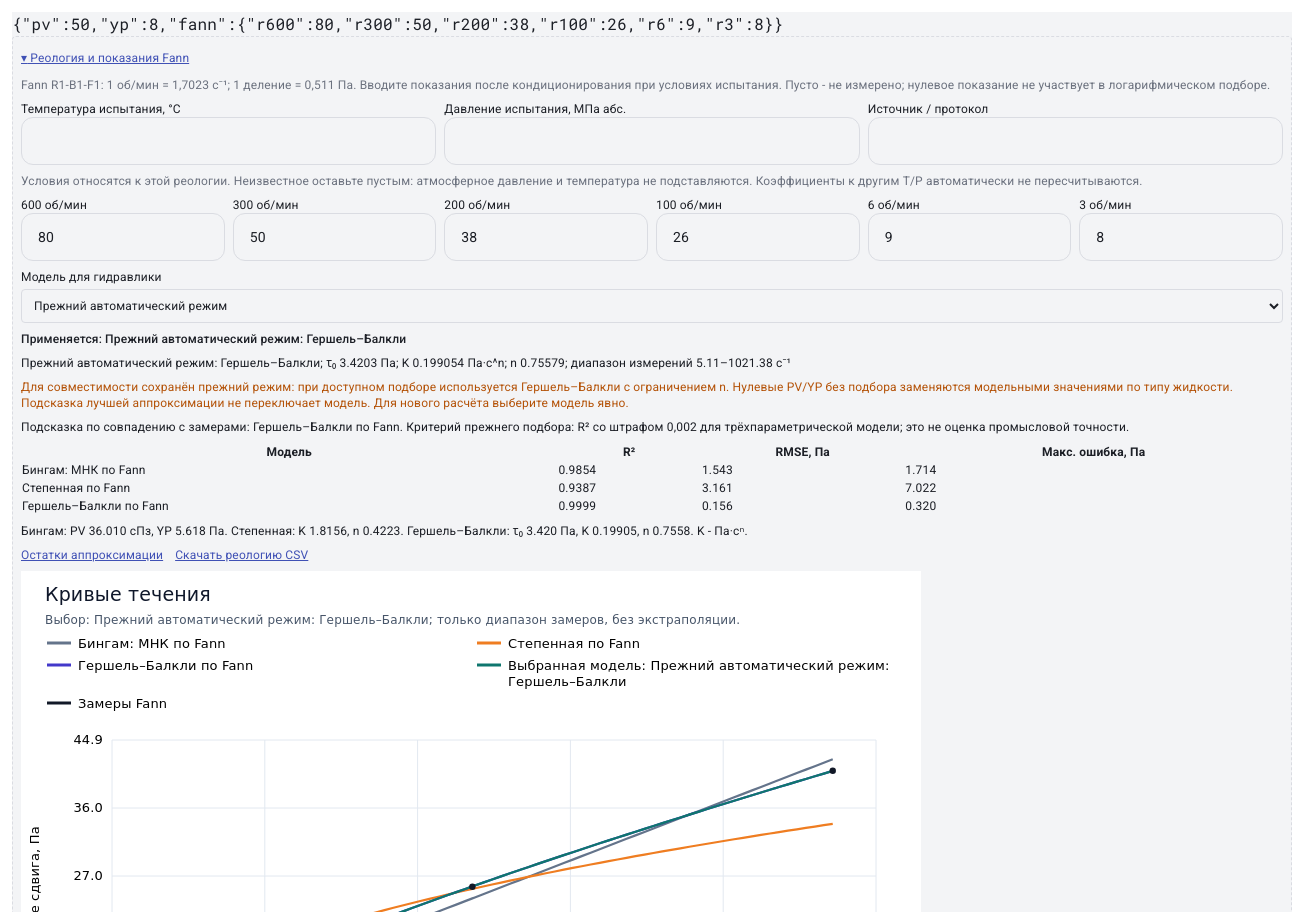
Scenario: records and clears conditions without assuming atmospheric pressure
Expected: the number field named "Давление испытания реологии, МПа абс." is not empty, [444, 117, 860, 165]
Type "0" into the number field named "Температура испытания реологии, °C" at (229, 141), box [21, 117, 436, 165]
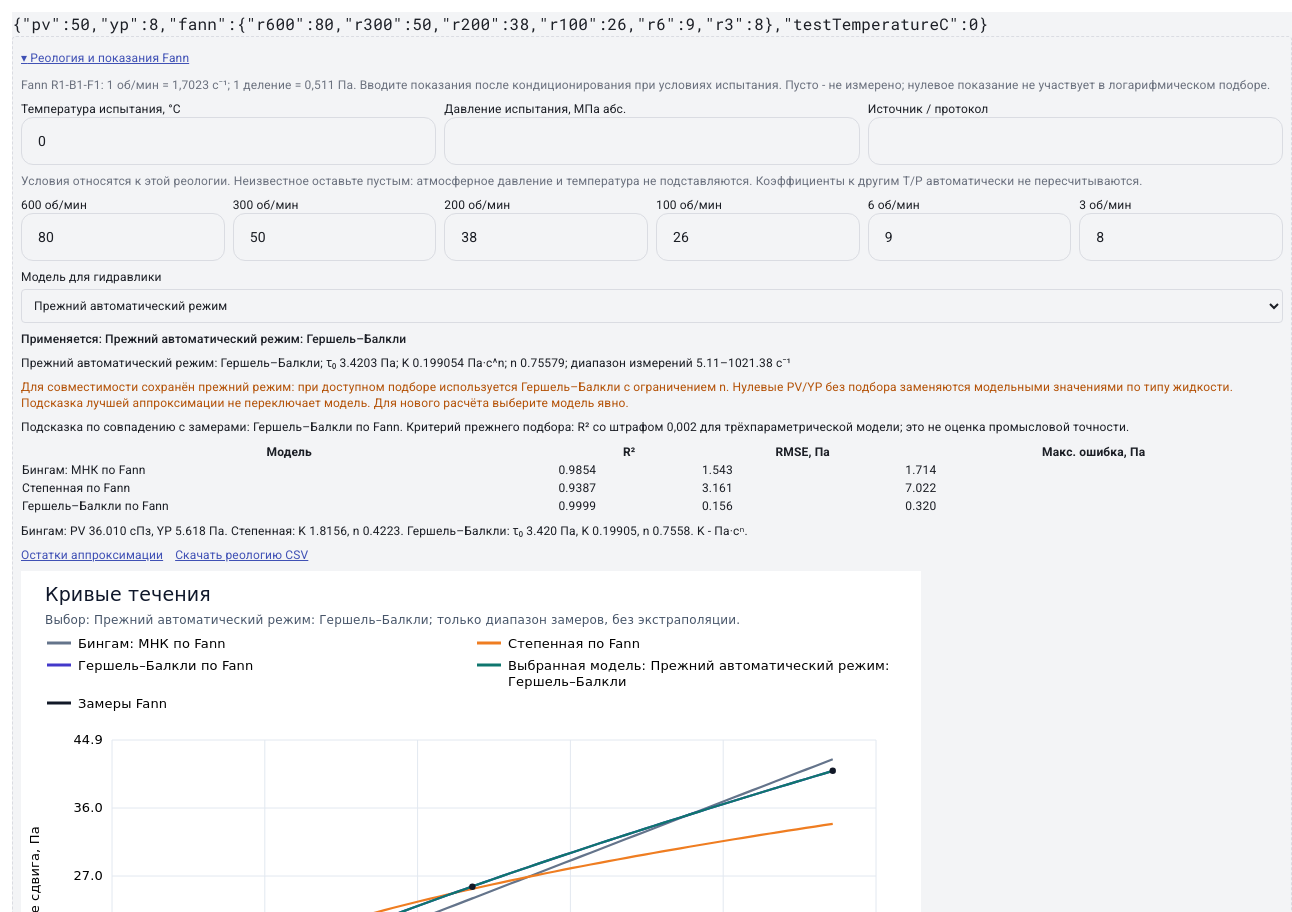
Type "0" into the number field named "Давление испытания реологии, МПа абс." at (652, 141), box [444, 117, 860, 165]
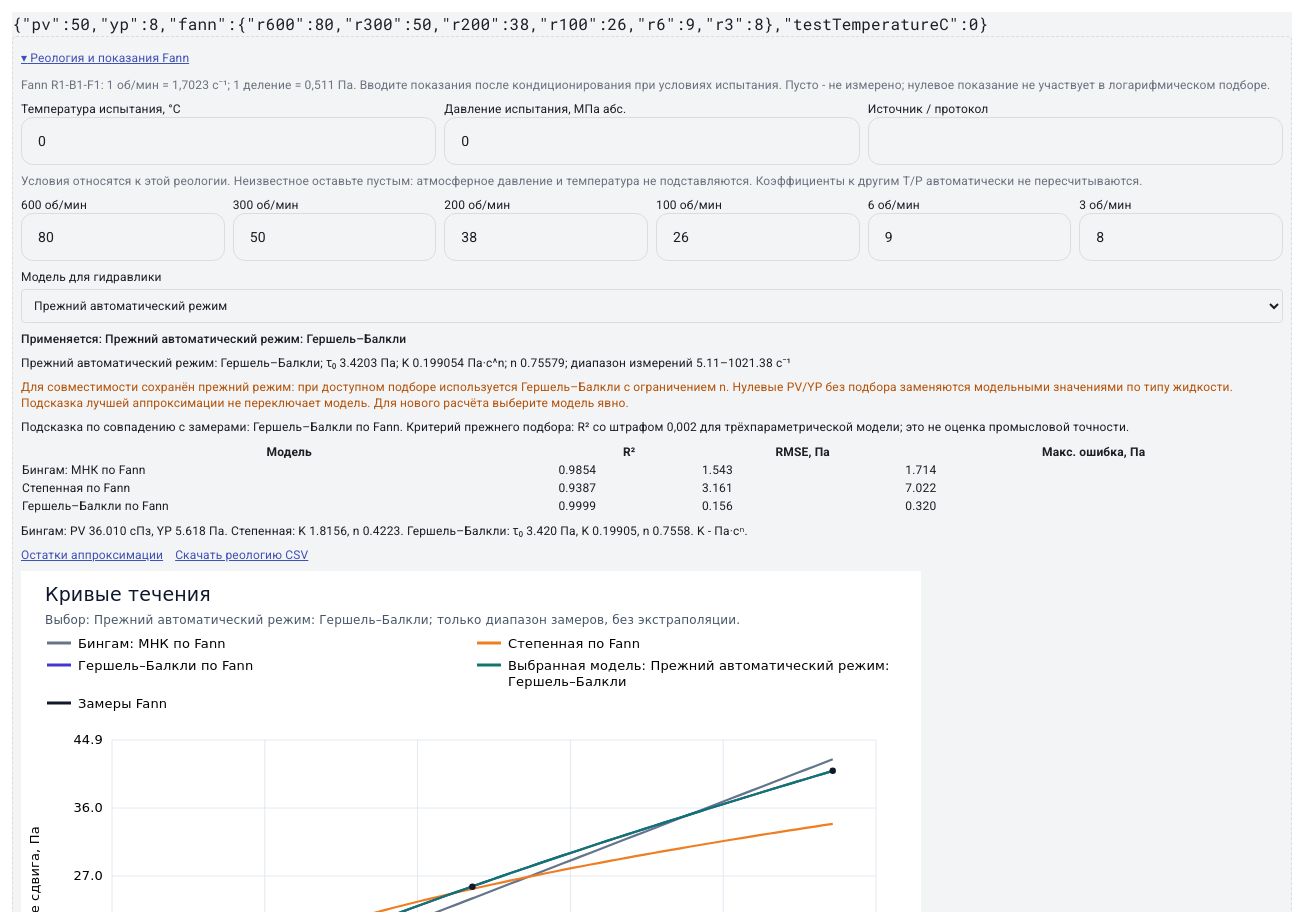
Leave the number field named "Давление испытания реологии, МПа абс.", box [444, 117, 860, 165]
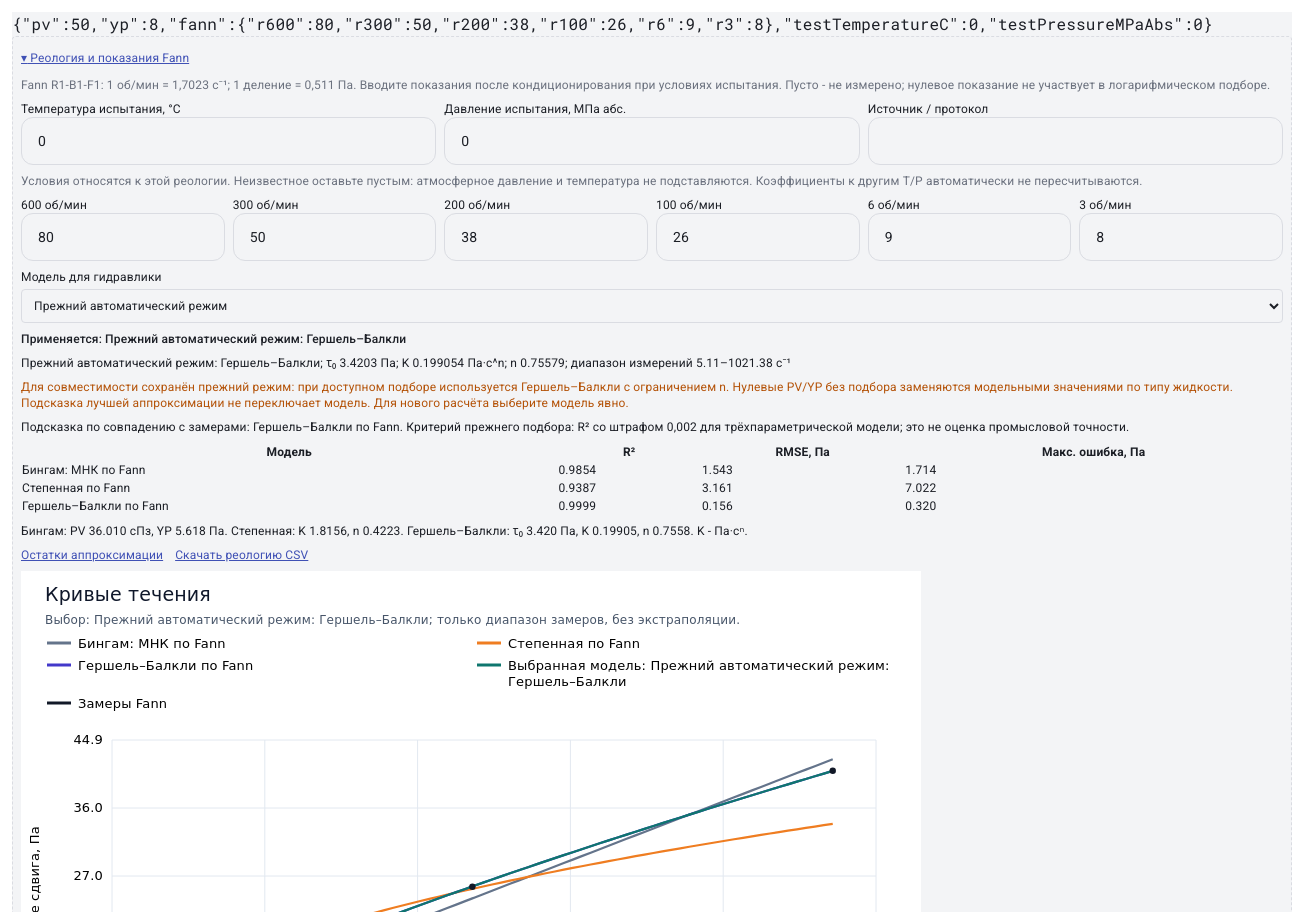
Result: the text with test id "rheo" shows "\"testTemperatureC\":0" at [12, 13, 1213, 34]
Result: the text with test id "rheo" shows "\"testPressureMPaAbs\":0" at [12, 13, 1213, 34]
Clear the number field named "Давление испытания реологии, МПа абс." at (652, 141), box [444, 117, 860, 165]
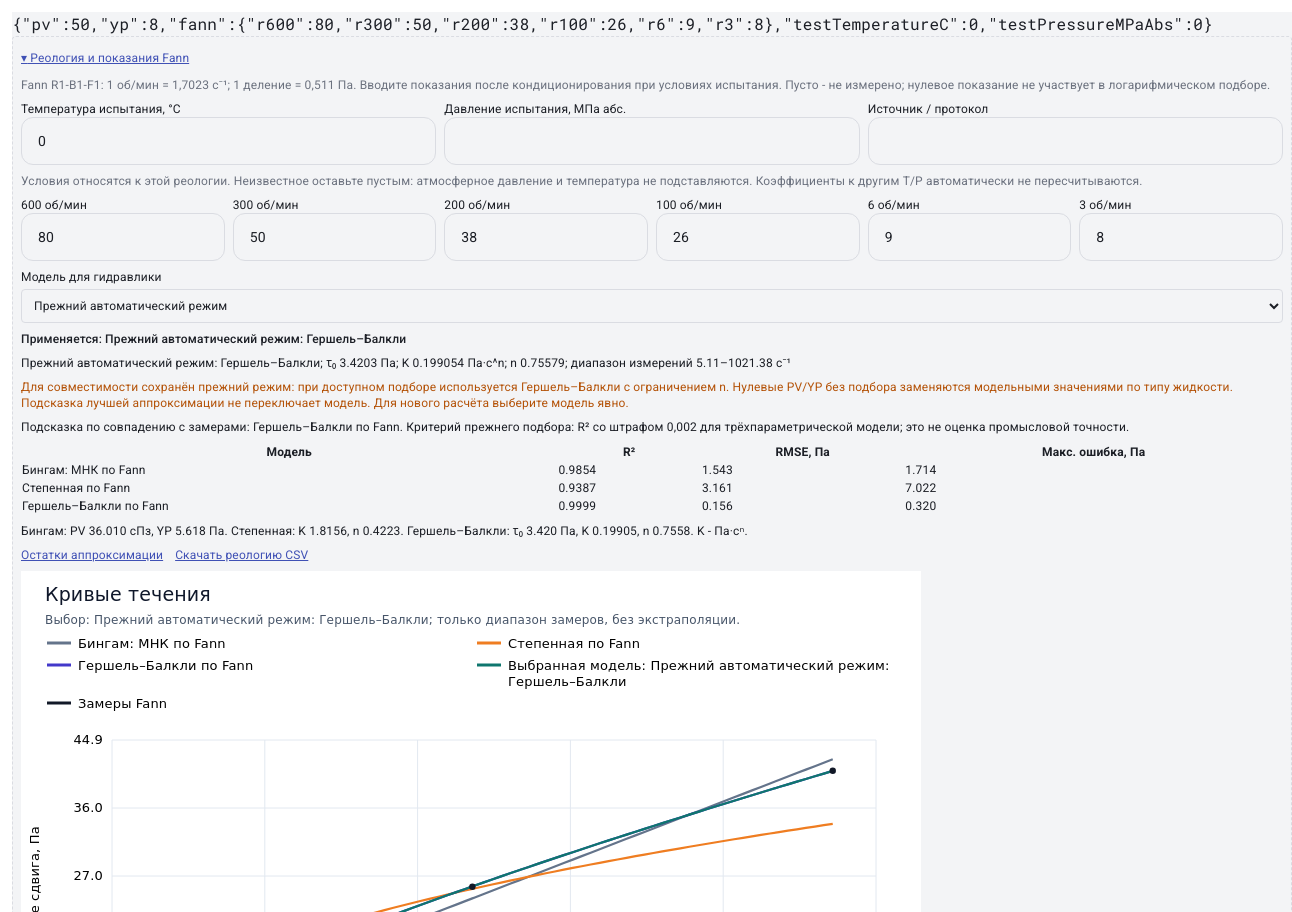
Leave the number field named "Давление испытания реологии, МПа абс.", box [444, 117, 860, 165]
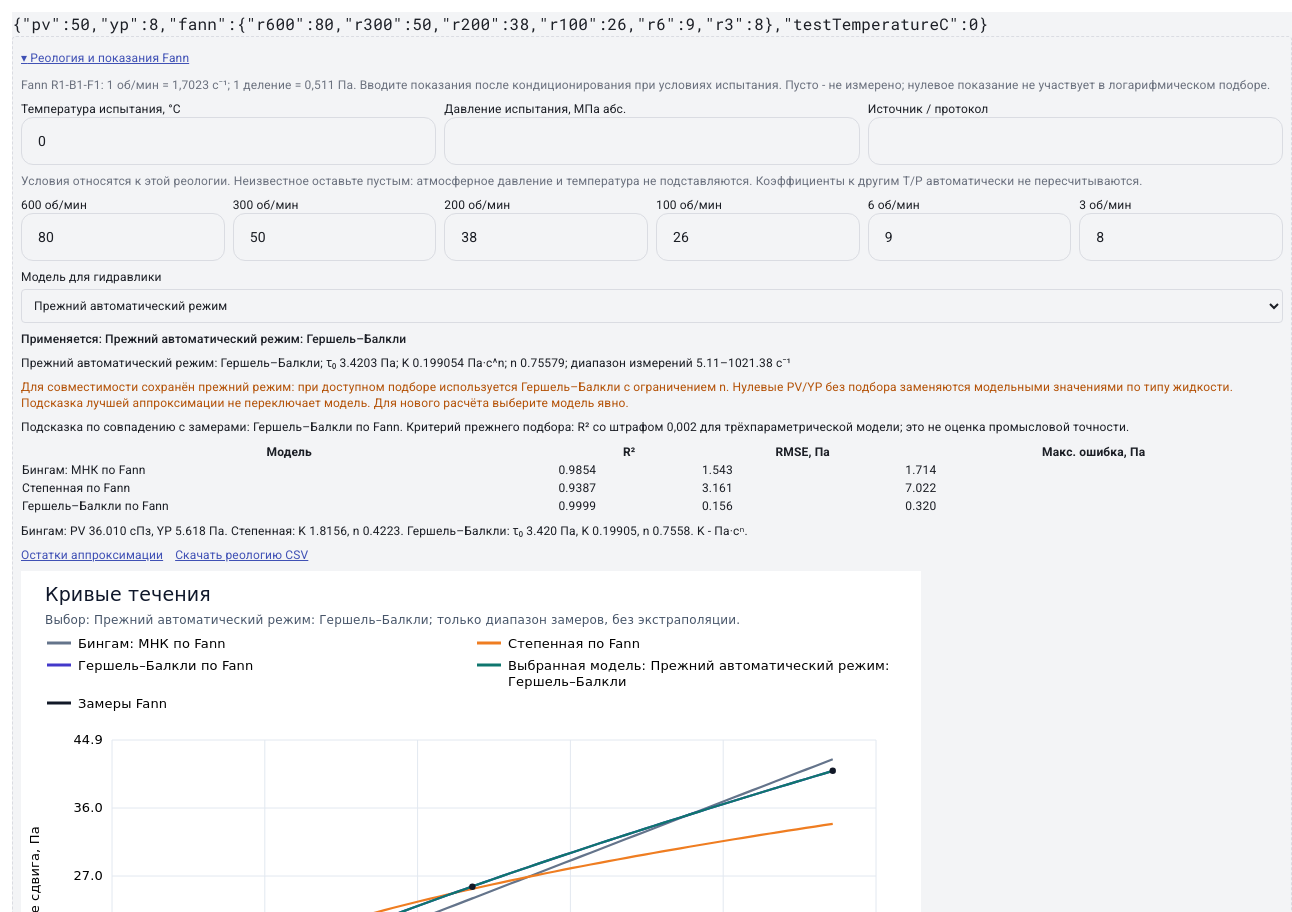
Result: the text with test id "rheo" no longer shows "testPressureMPaAbs" at [12, 13, 988, 34]
